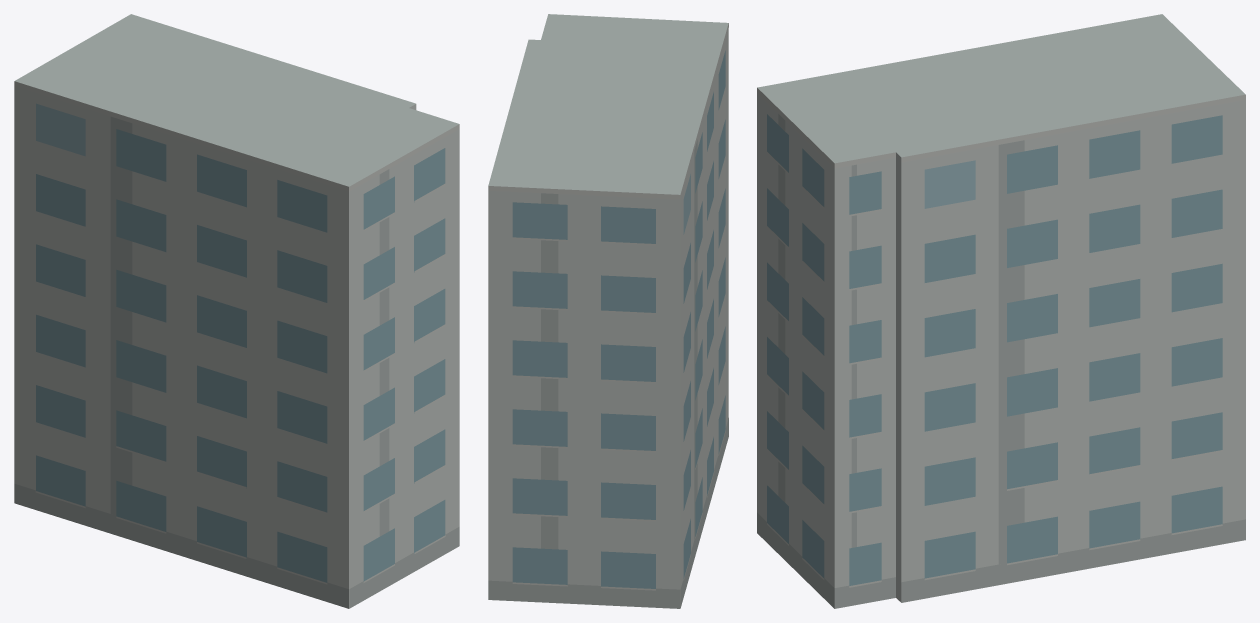
File: survey-upis-32865792.glb
3 views of the same model, side by side, from view 1: azimuth 30°, elevation 25°; view 2: azimuth 150°, elevation 25°; view 3: azimuth 270°, elevation 25° (orthographic). The views are drawn at different scales.
Parts seen in each view (by area): view 1: survey-upis-32865792.tmp; view 2: survey-upis-32865792.tmp; view 3: survey-upis-32865792.tmp.
Part boxes in pixels (x1,y1,x2,y2): survey-upis-32865792.tmp: [14, 14, 459, 608]; survey-upis-32865792.tmp: [488, 14, 728, 608]; survey-upis-32865792.tmp: [757, 14, 1245, 608].
Bounding box in the file's own units: 14.86 × 20.65 × 20.54.
